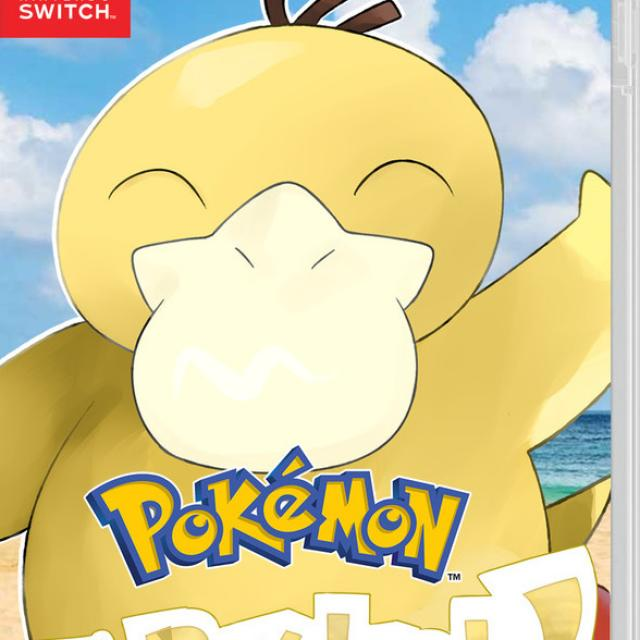Psyduck: (52, 28, 550, 640)
